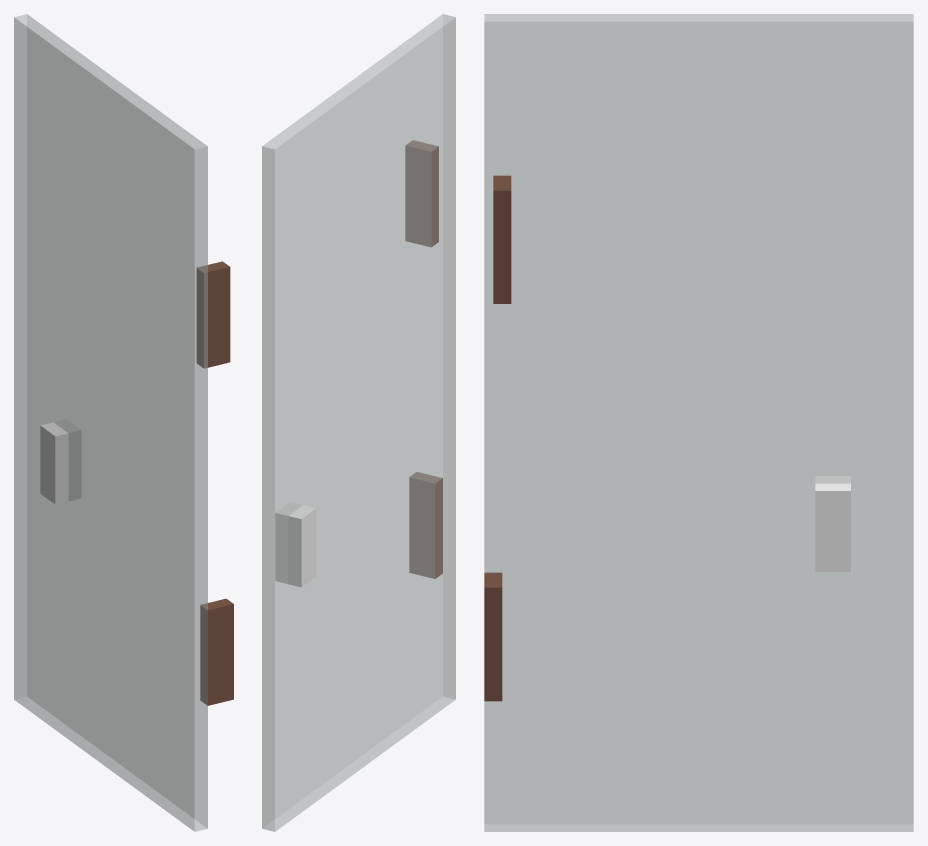
File: durtinas.glb
3 views of the same model, side by side, from view 1: azimuth 30°, elevation 25°; view 2: azimuth 150°, elevation 25°; view 3: azimuth 270°, elevation 25° (orthographic). The views are drawn at different scales.
Parts seen in each view (by area): view 1: group1994143514, group8093476, group1786676661; view 2: group1994143514, group1786676661, group8093476; view 3: group1994143514, group1786676661, group8093476.
Part boxes in pixels (bbox=[...]): group1994143514: bbox=[14, 14, 207, 831]; group8093476: bbox=[196, 261, 230, 368]; group1786676661: bbox=[200, 598, 233, 705]; group1994143514: bbox=[262, 14, 455, 831]; group1786676661: bbox=[409, 472, 442, 578]; group8093476: bbox=[405, 140, 438, 246]; group1994143514: bbox=[484, 14, 913, 831]; group1786676661: bbox=[484, 572, 502, 701]; group8093476: bbox=[493, 175, 511, 303].
Size of the model in its own units: 0.03 by 0.5 by 0.24.
